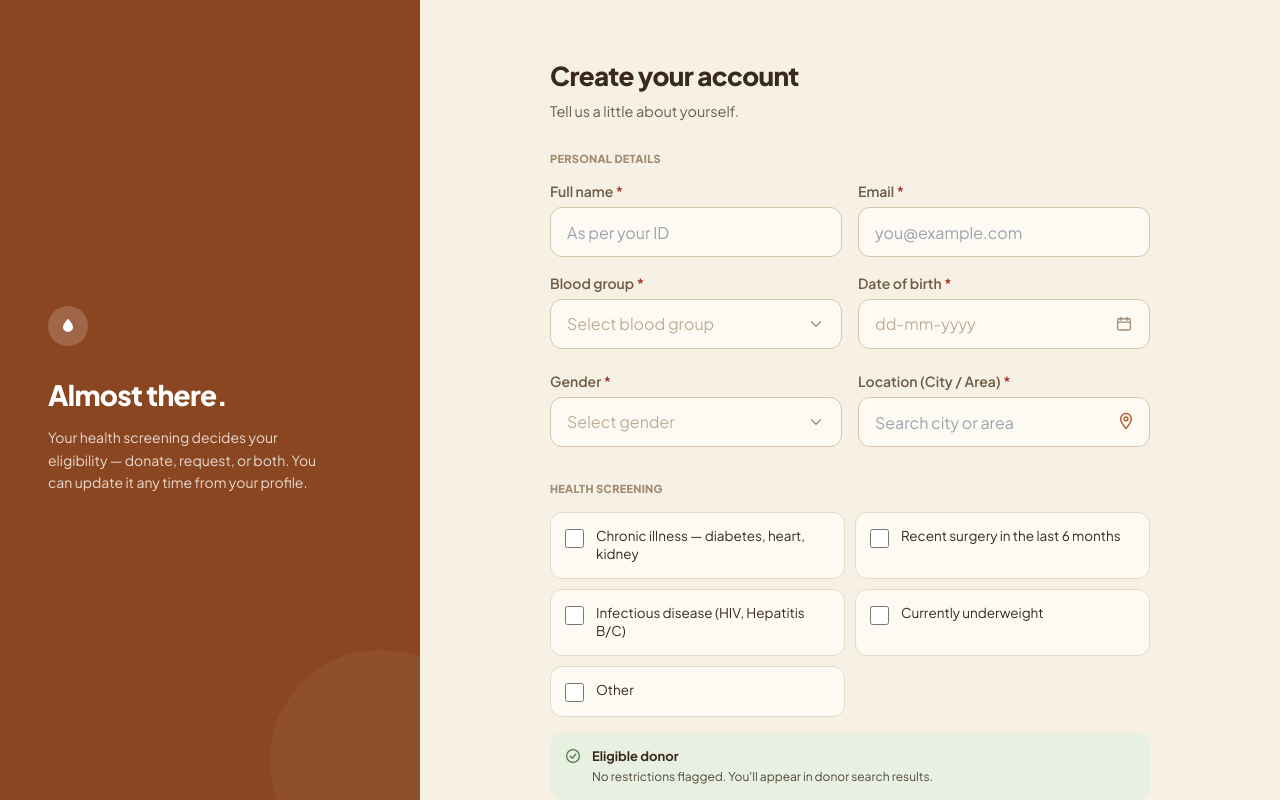
Test case: RegisterStubPage (CHH-F02 Individual Registration) › switches to the Receiver only banner as soon as a restriction is checked (AC2)
Click the checkbox labelled "Chronic illness — diabetes, heart, kidney".
click(574, 538)  # box [565,529,584,548]
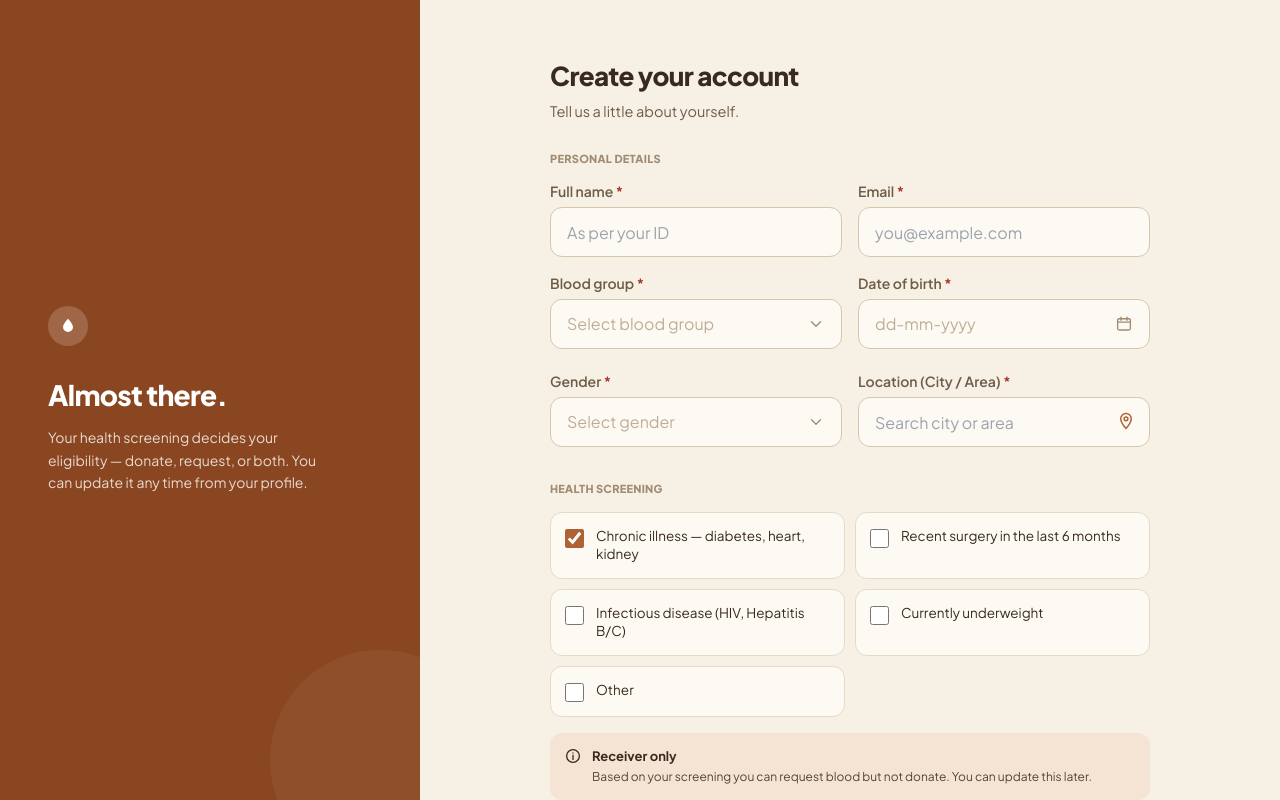
Now the text "Receiver only" is shown, box [592,748,677,764]
